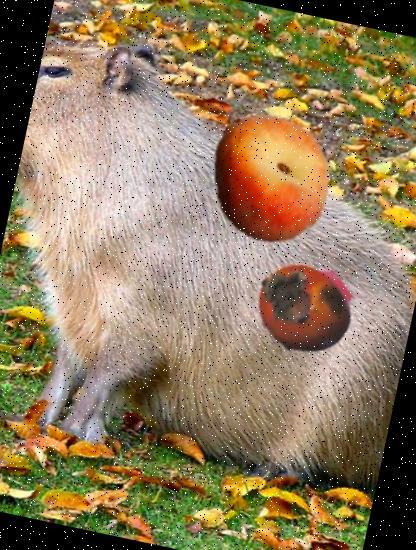Kaki: (242, 249, 364, 371)
Peach: (191, 100, 346, 255)
Redcurrant: (282, 264, 357, 339)
